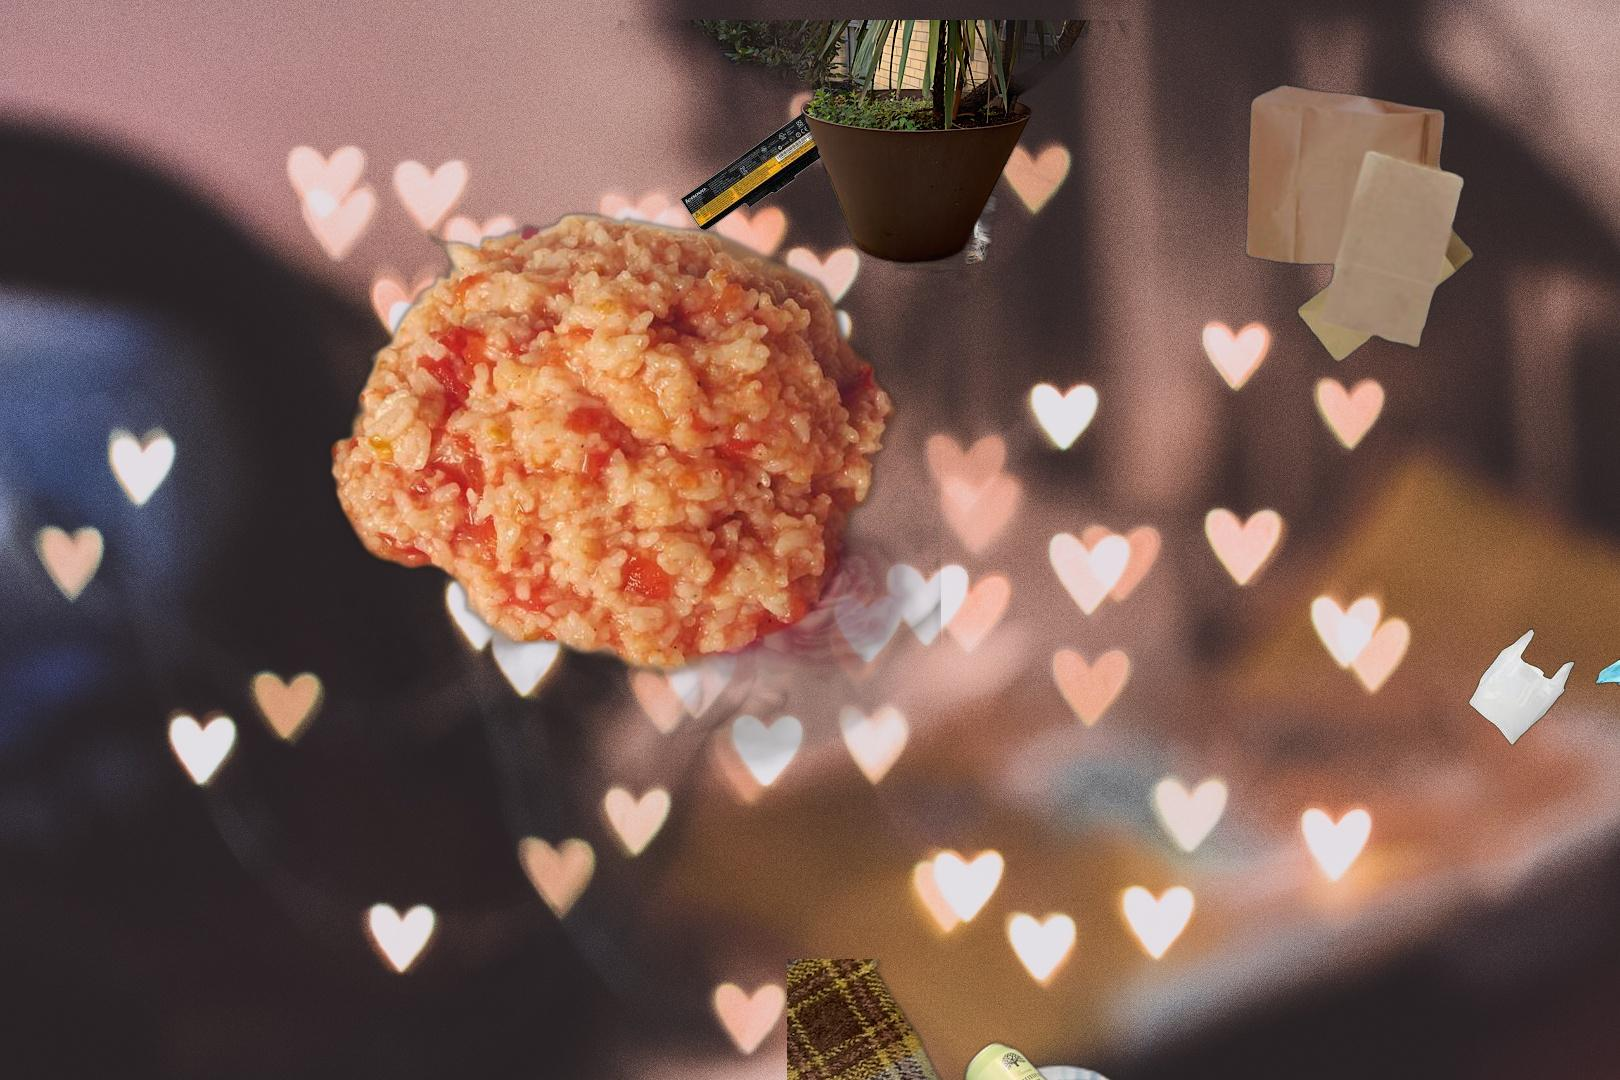battery: (678, 81, 869, 233)
biological: (301, 206, 941, 796)
glass: (618, 20, 1130, 323)
metal-cans: (787, 959, 1299, 1080)
paper-bag: (1242, 83, 1477, 365)
plastic-bag: (1468, 602, 1620, 748)
trashbox-cardboard: (810, 177, 1110, 378), (917, 1058, 1140, 1080)
